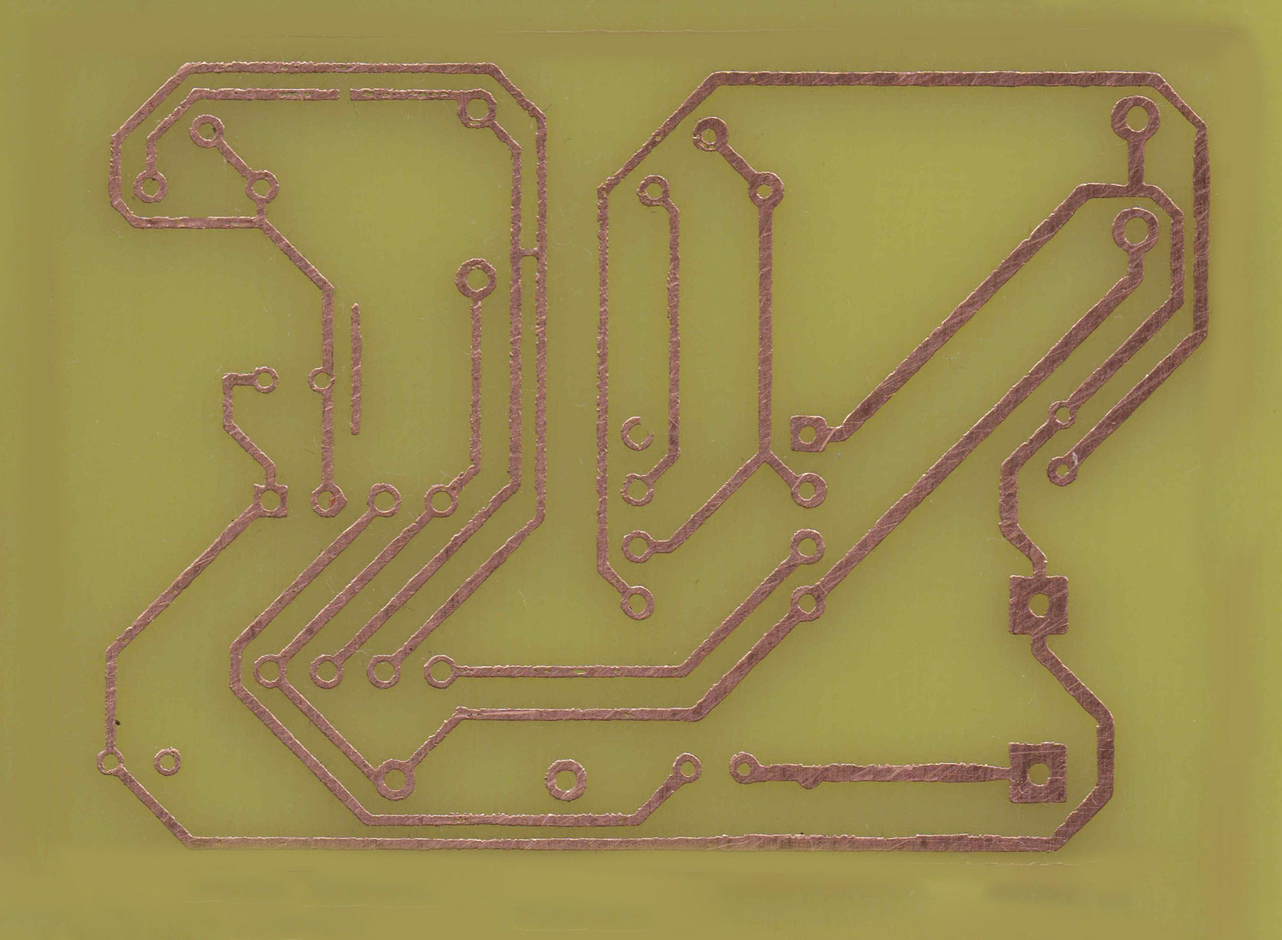missing_hole: (618, 415, 657, 452)
open_circuit: (330, 85, 359, 107)
short: (507, 242, 550, 258)
spur: (790, 757, 827, 794)
spurious_copper: (341, 299, 371, 440)
